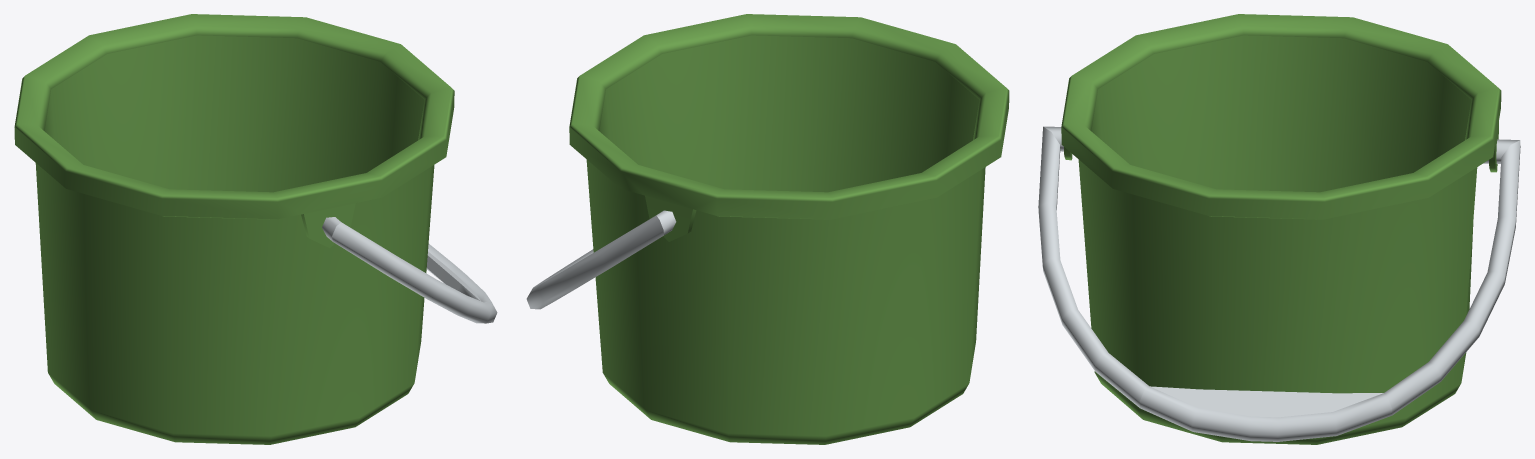
File: bucket.fbx
The picture shows the model from 3 angles, left to right: view 1: azimuth 30°, elevation 25°; view 2: azimuth 150°, elevation 25°; view 3: azimuth 270°, elevation 25°; orthographic projection.
Visible parts, largest first — view 1: Base01__M_Cnsw_58_FloorSet_Obj_Plastic_glossy.003; view 2: Base01__M_Cnsw_58_FloorSet_Obj_Plastic_glossy.003; view 3: Base01__M_Cnsw_58_FloorSet_Obj_Plastic_glossy.003.
Part boxes in pixels (box(x1,y1,x2,y2)): Base01__M_Cnsw_58_FloorSet_Obj_Plastic_glossy.003: box(14, 14, 497, 444); Base01__M_Cnsw_58_FloorSet_Obj_Plastic_glossy.003: box(526, 14, 1009, 444); Base01__M_Cnsw_58_FloorSet_Obj_Plastic_glossy.003: box(1038, 14, 1520, 444).
Size of the model in its own units: 11909 by 7452 by 12040.
